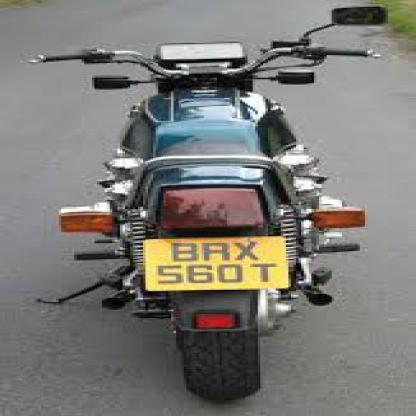Motorcycle: (13, 4, 413, 405)
